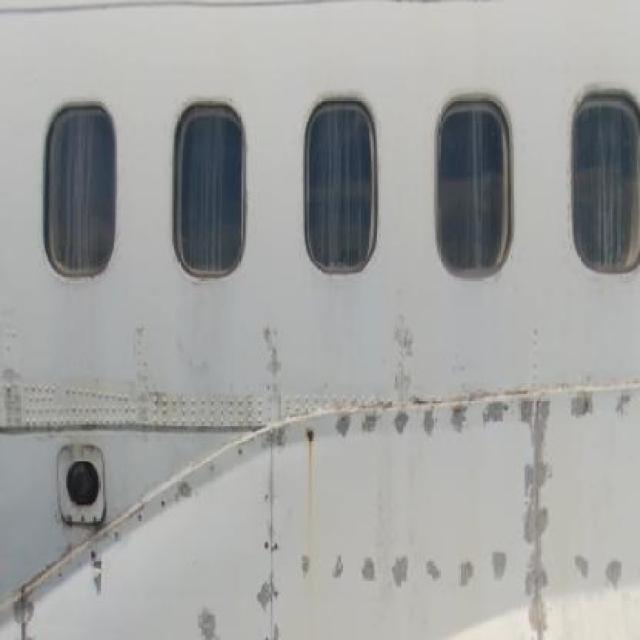Missing-Rivet: (300, 552, 628, 588), (137, 446, 251, 520), (50, 523, 138, 571), (335, 407, 514, 428), (260, 467, 280, 640), (574, 394, 640, 421)
Rust: (302, 416, 326, 547)
Scartch: (292, 543, 640, 615), (325, 396, 629, 444), (510, 371, 558, 640), (249, 423, 296, 640), (119, 303, 172, 452), (248, 308, 300, 428), (387, 291, 428, 418), (1, 334, 28, 452), (180, 583, 234, 640), (74, 548, 124, 608), (12, 580, 40, 640)
